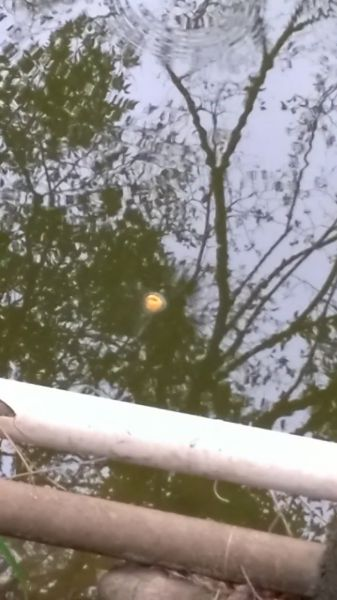eggs: (140, 289, 167, 318)
